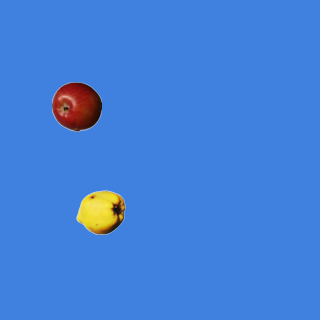Apple Braeburn: (51, 81, 101, 131)
Quince: (75, 187, 125, 237)
